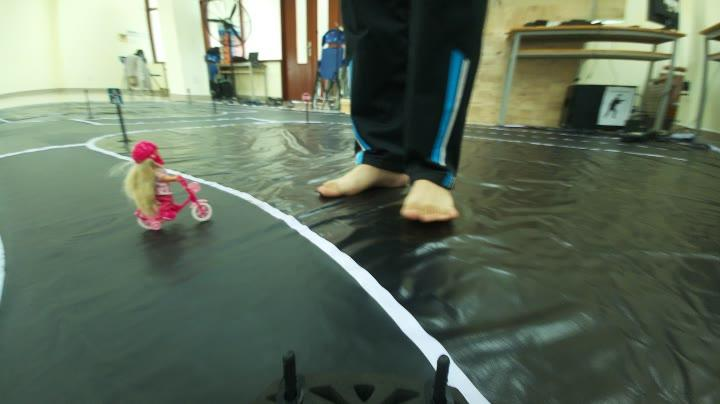pedestrian: (126, 140, 222, 234)
